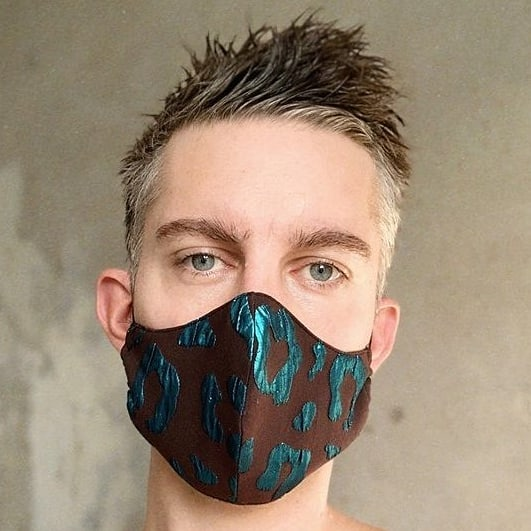homemade: (120, 300, 391, 502)
